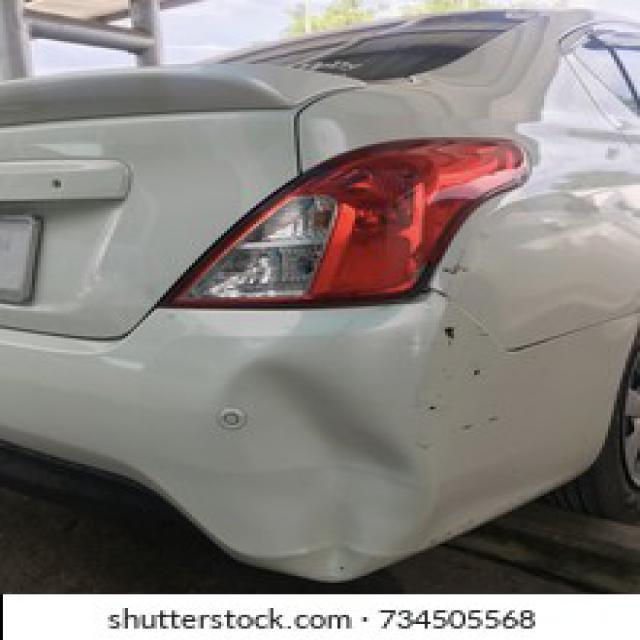rear-bumper-dent: (192, 306, 434, 574)
